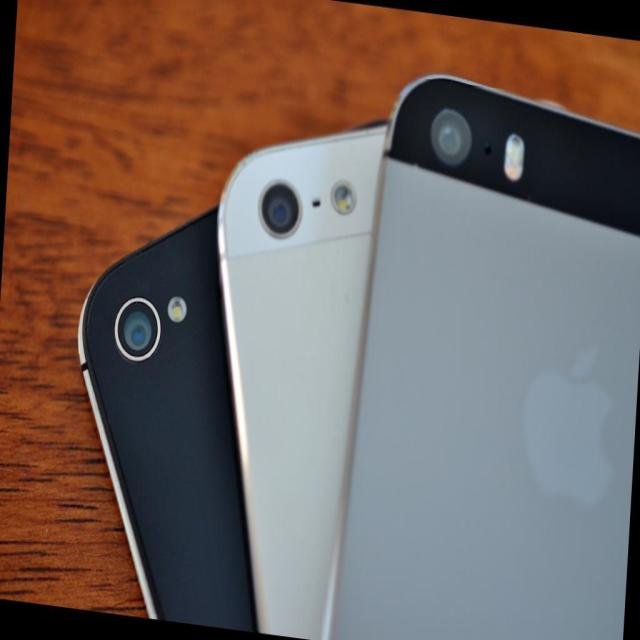handphone: (374, 81, 631, 633), (219, 130, 399, 640), (75, 214, 243, 615)
